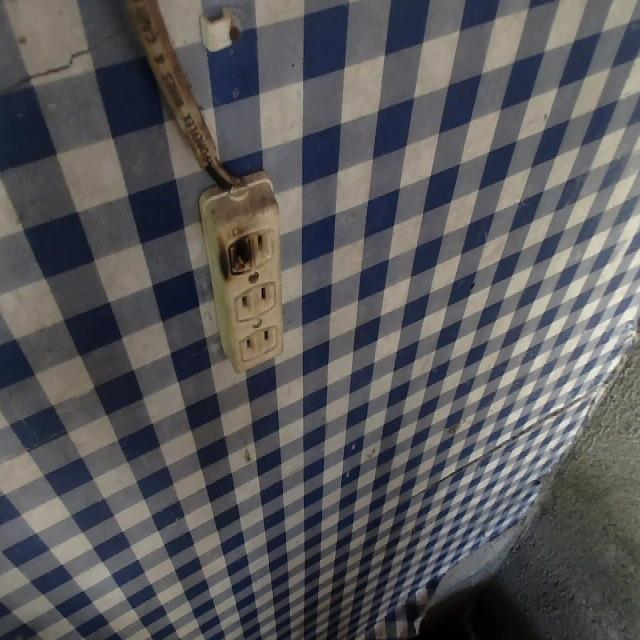-: (214, 226, 259, 282)
